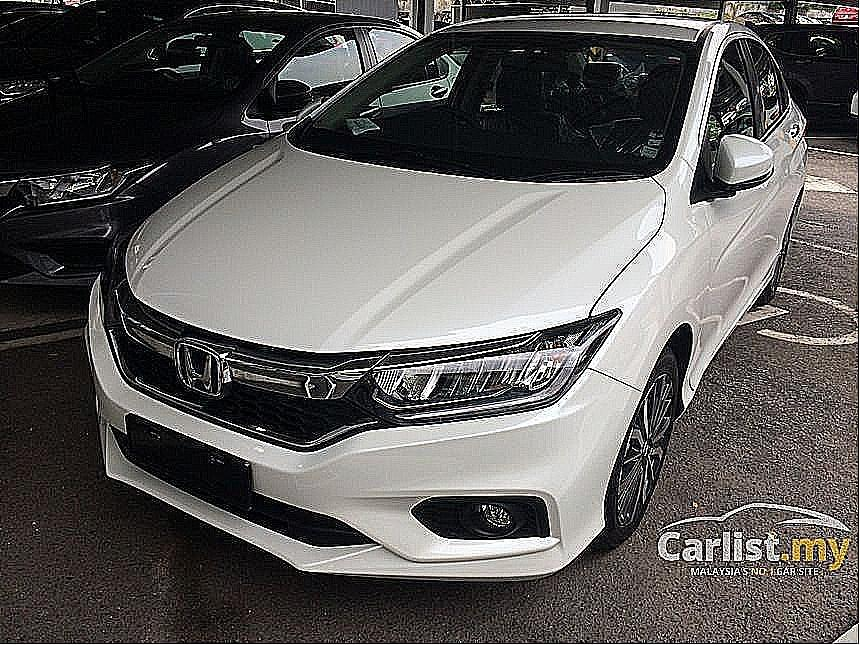Car hood: (114, 126, 672, 359)
Fender - -F-L-: (592, 153, 697, 412)
Front bumper: (62, 344, 644, 590)
Headlight - -L-: (357, 302, 633, 432)
Headlight - -R-: (92, 223, 137, 337)
Passenger-s door - -F-L-: (690, 22, 762, 394)
Passenger-s door - -R-L-: (757, 10, 809, 294)
Side bumper - -L-: (676, 233, 786, 413)
Side mirror - -L-: (706, 123, 781, 197)
Side mirror - -R-: (287, 83, 337, 134)
